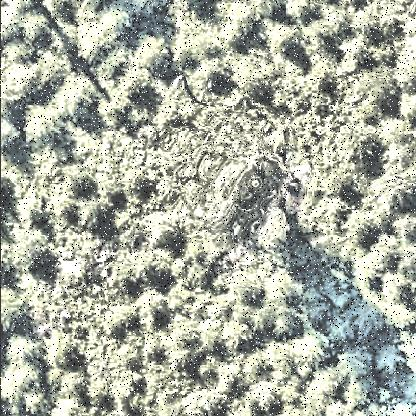tree-top: (224, 47, 274, 97), (72, 15, 120, 63), (27, 26, 67, 79), (238, 270, 291, 306), (55, 72, 98, 116), (22, 101, 66, 143), (1, 60, 45, 102), (14, 226, 56, 268), (360, 66, 402, 108), (2, 361, 44, 401), (352, 1, 397, 37), (134, 36, 174, 76), (186, 378, 228, 416), (394, 322, 416, 393), (148, 233, 186, 272), (264, 16, 300, 56), (376, 116, 416, 152), (87, 194, 119, 238), (148, 213, 186, 249), (36, 51, 72, 89), (1, 289, 34, 330), (262, 272, 299, 308), (231, 271, 267, 306), (52, 333, 88, 368), (292, 332, 328, 366), (143, 248, 181, 280), (346, 124, 380, 159), (139, 290, 173, 324), (66, 165, 100, 199), (7, 331, 43, 363), (249, 379, 282, 412), (22, 11, 53, 45), (169, 314, 201, 346), (108, 298, 140, 329), (3, 39, 37, 68), (198, 321, 228, 351), (376, 233, 404, 265), (1, 116, 22, 155), (393, 211, 416, 243), (270, 313, 297, 340), (197, 358, 223, 386), (284, 1, 314, 21), (398, 90, 416, 123)
